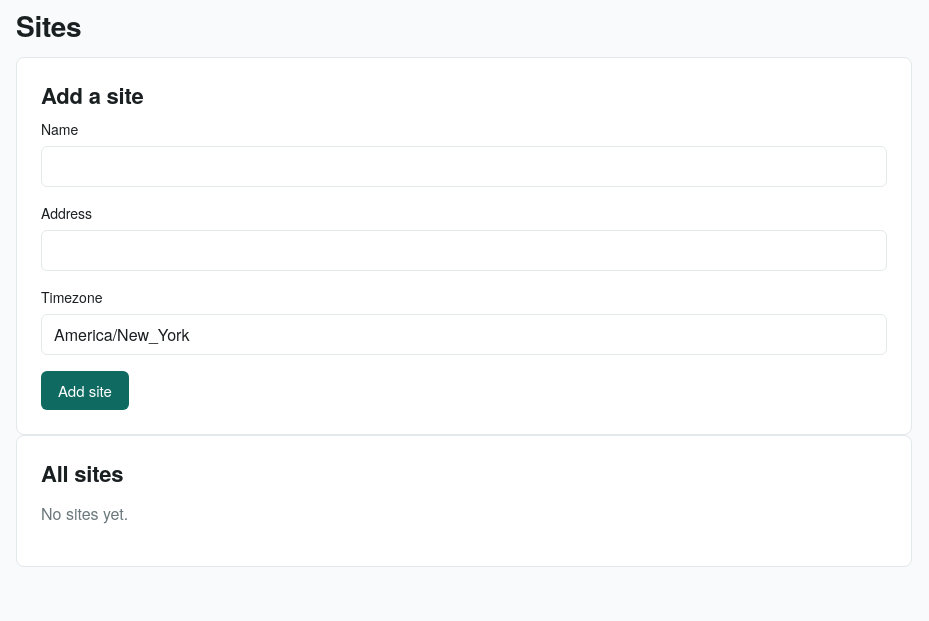
Scenario: SitesPage › shows a validation error when required fields are empty
Expected: the text "No sites yet." is shown, [41,502,128,525]
Click the button "Add site" at (85, 390), box [41,371,129,410]
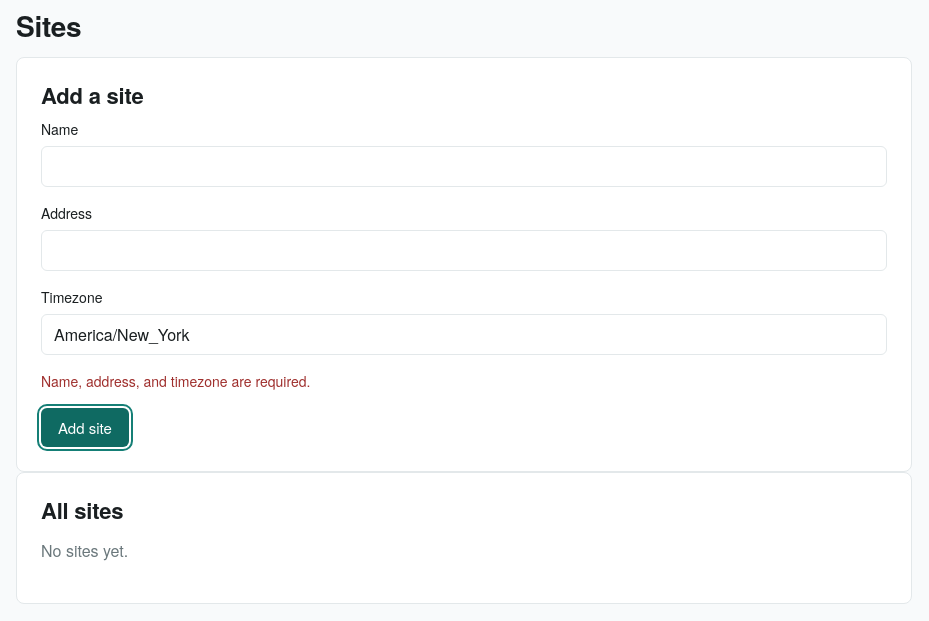
Expected: the text "Name, address, and timezone are required." is shown, [41,371,310,391]
